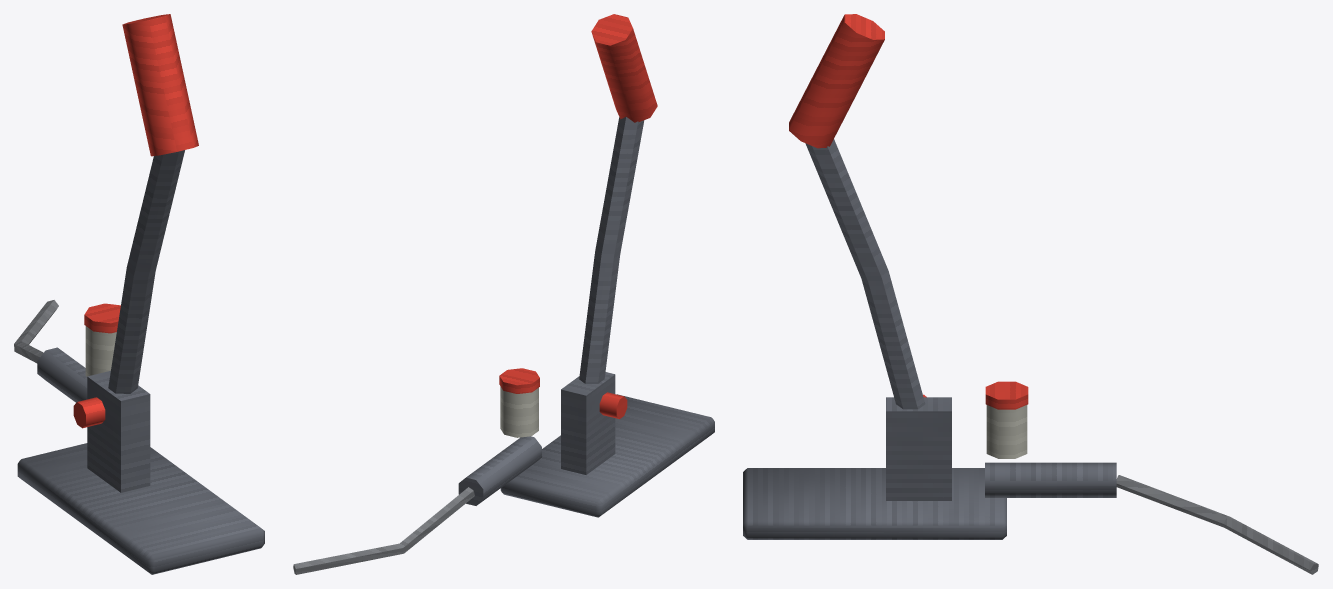
Rendered from freio_mao_n4.glb.
3 views of the same model, side by side, from view 1: azimuth 30°, elevation 25°; view 2: azimuth 150°, elevation 25°; view 3: azimuth 270°, elevation 25° (orthographic). The views are drawn at different scales.
Parts seen in each view (by area): view 1: freio_mao_n4; view 2: freio_mao_n4; view 3: freio_mao_n4.
Boxes of the visible parts, box(x1,y1,x2,y2) form: freio_mao_n4: box(14, 14, 264, 574); freio_mao_n4: box(293, 14, 714, 574); freio_mao_n4: box(743, 14, 1318, 574).
Bounding box in the file's own units: 0.2043 × 0.4973 × 0.5238.
2 materials, 2 textured.
